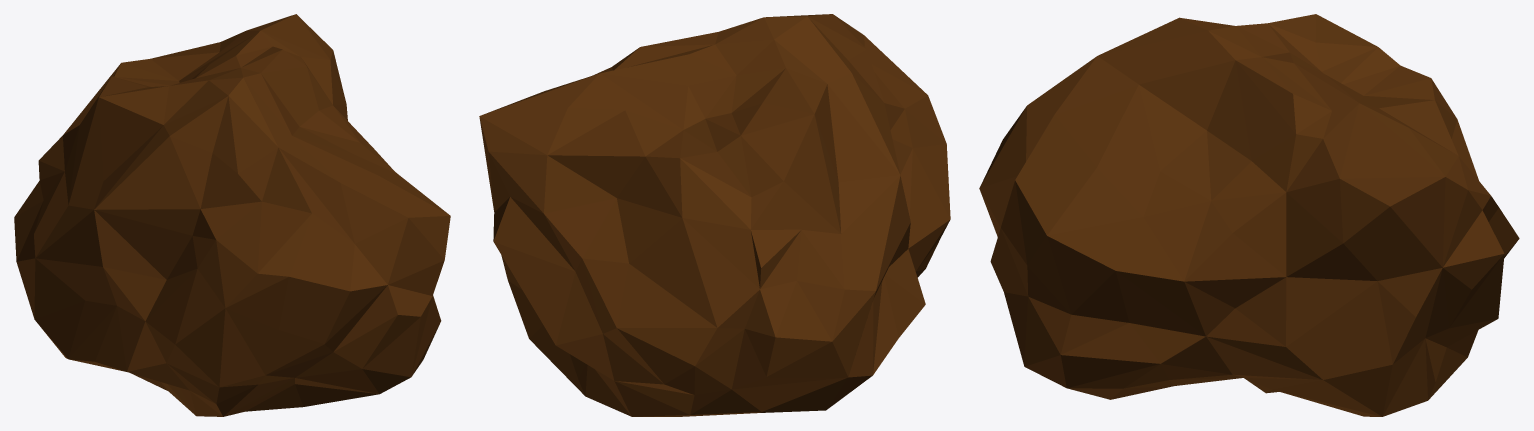
The model's file is Rock-5.fbx.
3 views of the same model, side by side, from view 1: azimuth 30°, elevation 25°; view 2: azimuth 150°, elevation 25°; view 3: azimuth 270°, elevation 25° (orthographic). The views are drawn at different scales.
Parts seen in each view (by area): view 1: Rock-5; view 2: Rock-5; view 3: Rock-5.
Boxes of the visible parts, x1,y1,x2,y2 form: Rock-5: (14,14,450,416); Rock-5: (479,14,950,416); Rock-5: (979,14,1519,416).
Bounding box in the file's own units: 1.34 × 1.72 × 1.21.
